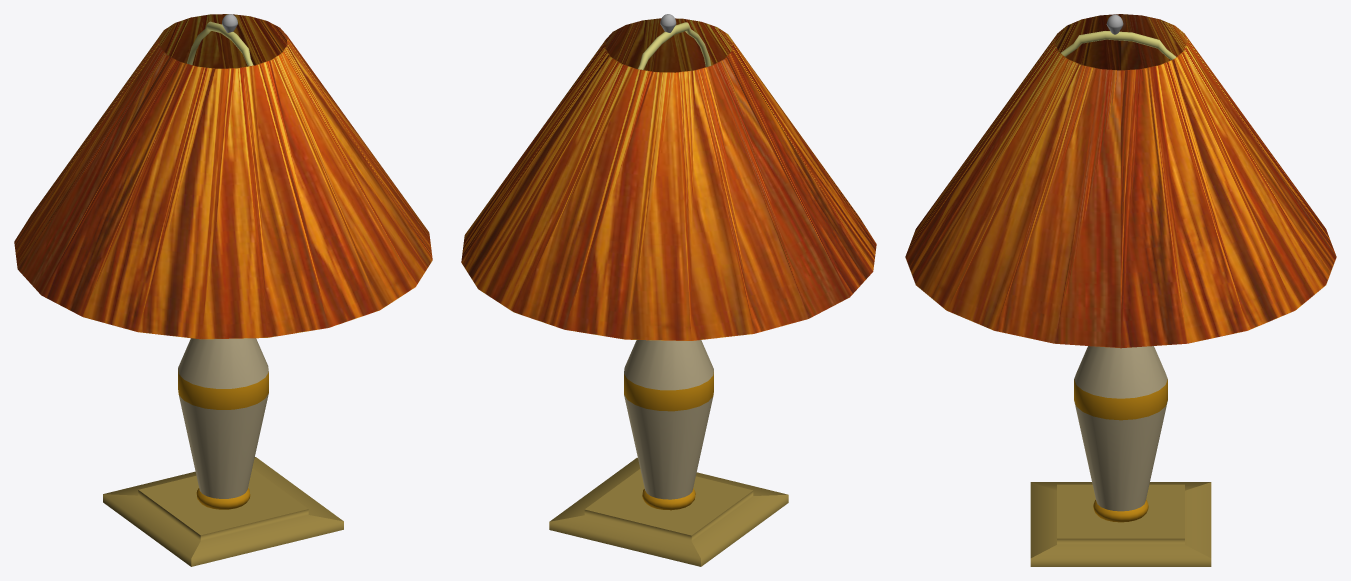
The model's file is Lamp.fbx.
The picture shows the model from 3 angles, left to right: view 1: azimuth 30°, elevation 25°; view 2: azimuth 150°, elevation 25°; view 3: azimuth 270°, elevation 25°; orthographic projection. The views are drawn at different scales.
Parts seen in each view (by area): view 1: pCylinder6, pCube1, pCylinder2, pCylinder1, pCylinder5, pTorus3; view 2: pCylinder6, pCube1, pCylinder2, pCylinder1, pCylinder5, pTorus3; view 3: pCylinder6, pCube1, pCylinder2, pCylinder1, pCylinder5, pTorus3.
Boxes of the visible parts, bbox=[...] form: pCylinder6: bbox=[14, 14, 432, 339]; pCube1: bbox=[103, 457, 343, 566]; pCylinder2: bbox=[178, 338, 268, 498]; pCylinder1: bbox=[158, 14, 288, 68]; pCylinder5: bbox=[187, 21, 253, 66]; pTorus3: bbox=[196, 488, 250, 509]; pCylinder6: bbox=[461, 18, 876, 340]; pCube1: bbox=[549, 457, 788, 566]; pCylinder2: bbox=[624, 340, 713, 499]; pCylinder1: bbox=[604, 19, 733, 72]; pCylinder5: bbox=[638, 22, 711, 69]; pTorus3: bbox=[642, 488, 695, 510]; pCylinder6: bbox=[905, 14, 1336, 348]; pCube1: bbox=[1030, 482, 1211, 566]; pCylinder2: bbox=[1074, 346, 1167, 511]; pCylinder1: bbox=[1054, 14, 1187, 70]; pCylinder5: bbox=[1061, 31, 1175, 59]; pTorus3: bbox=[1093, 500, 1148, 522].
Bounding box in the file's own units: 1.49 × 1.96 × 1.49.
9 materials, 1 textured.
